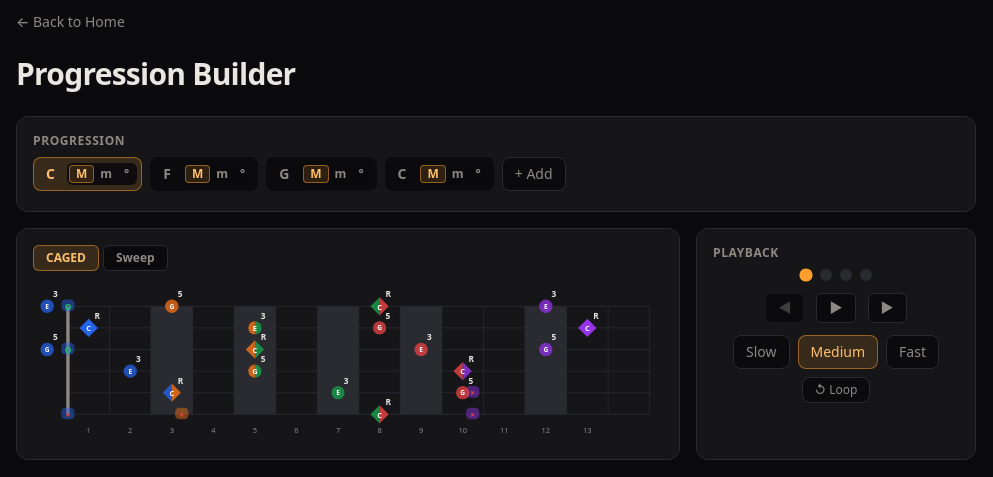
it: ProgressionBuilder › add chord › appends a chord to the end of the progression
Click the button "+ Add". click: x=534, y=174
box: top-left (502, 157), bottom-right (566, 191)
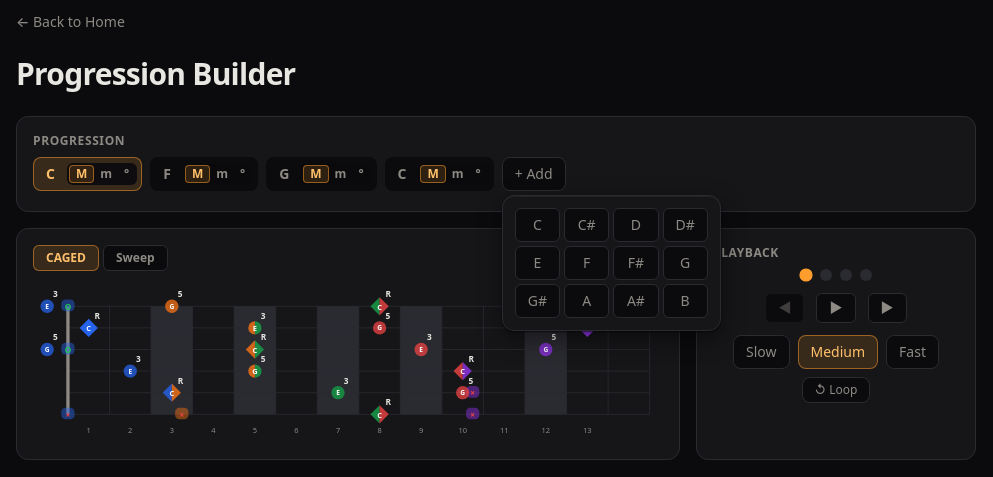
# Pick a note from the picker (D#)
Click the button named "Add D# major chord". click: x=685, y=225
box: top-left (662, 208), bottom-right (708, 242)
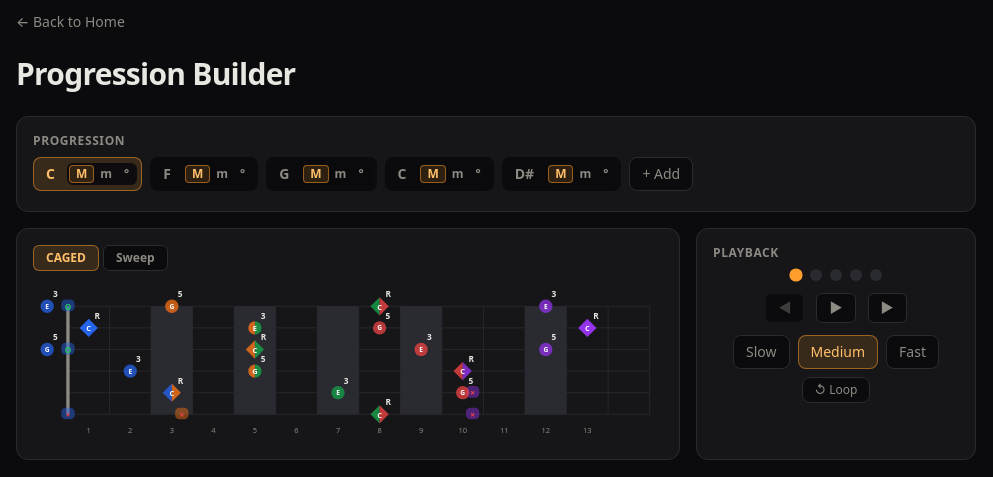
Result: the number of buttons named "Select chord" is 5 at top-left (38, 162), bottom-right (63, 186); top-left (155, 162), bottom-right (179, 186); top-left (271, 162), bottom-right (297, 186); top-left (390, 162), bottom-right (414, 186); top-left (507, 162), bottom-right (542, 186)
